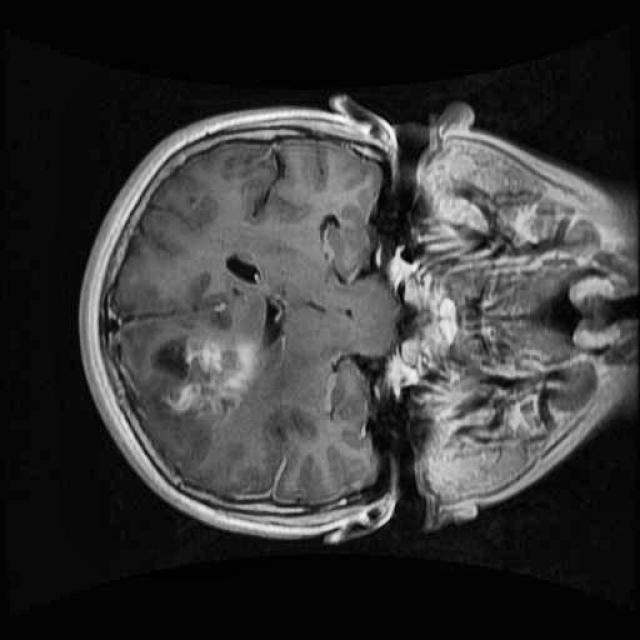Non-Tumor: (140, 320, 269, 425)
